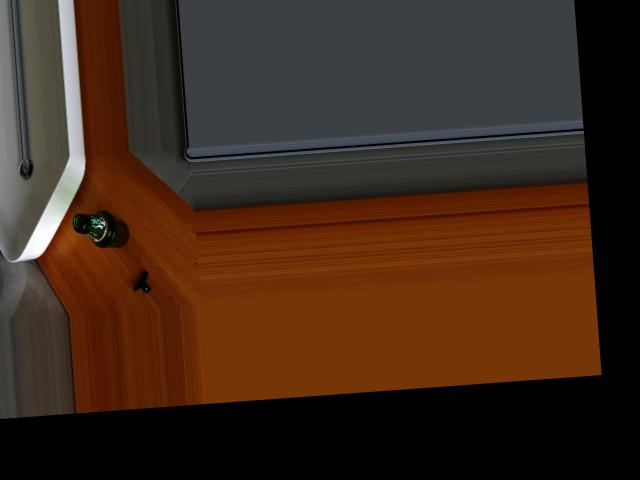beer: (72, 209, 130, 249)
